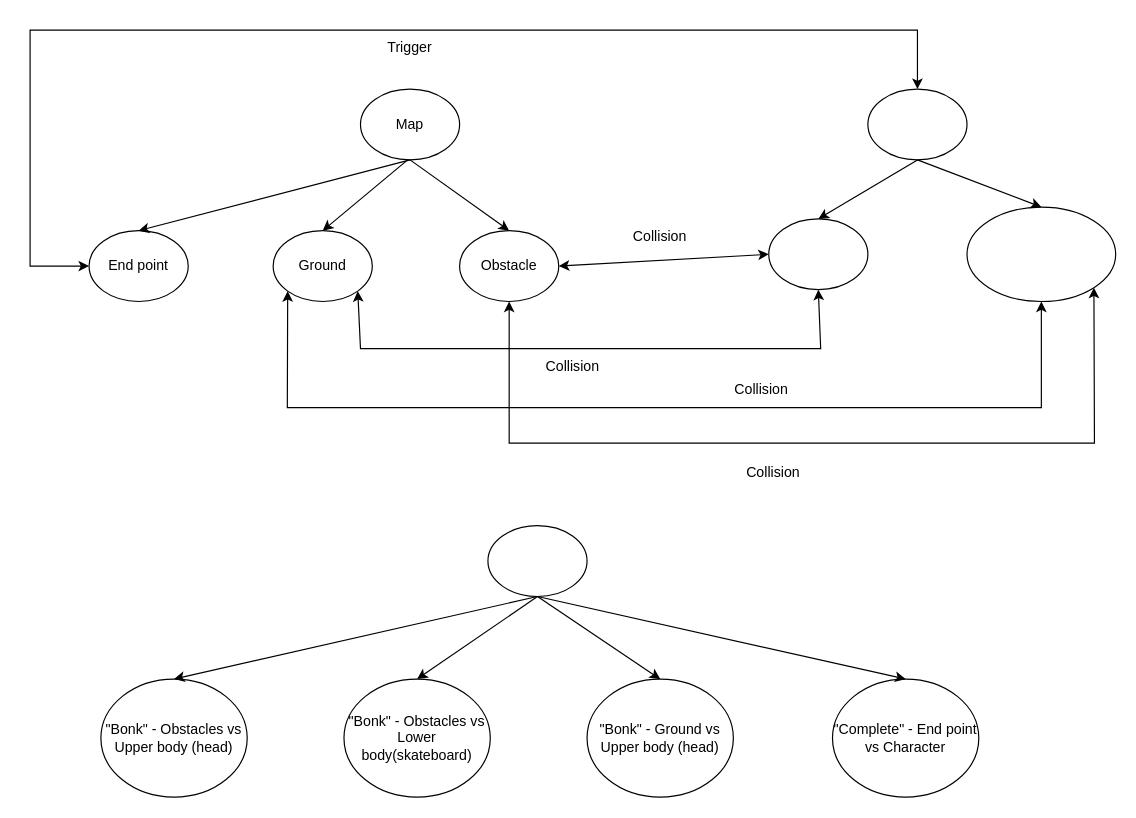
Some shapes in this 1136 by 818 pixel diagram are drawn without their labels. The shapes that lost their labels are listed below. From the top down, each one's centre as x and y in pixels, then its label:
At point 917,124: "Character".
At point 818,254: "Upper body (head)".
At point 1041,253: "Lower body(skateboard)".
At point 537,560: "Sound".
